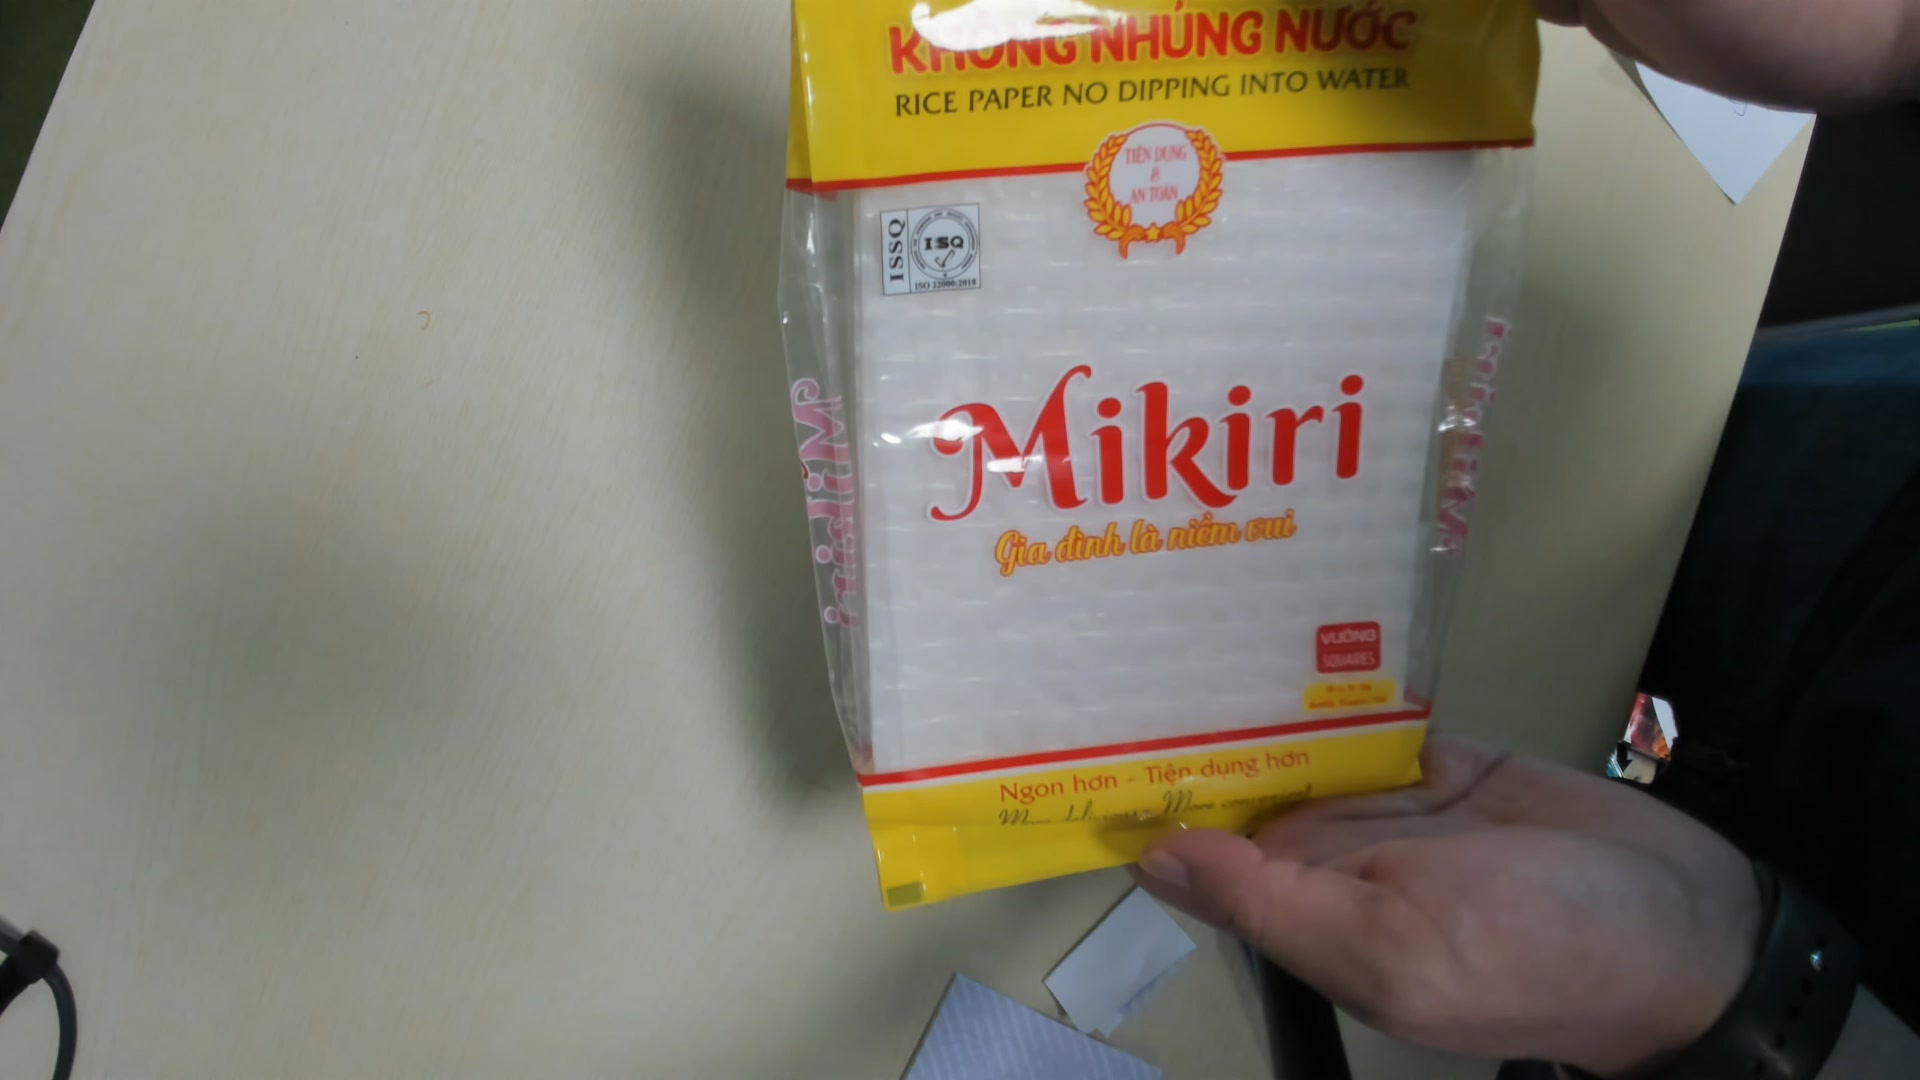InstantMeals_200_299g_NonHalal_NonHealthy: (775, 8, 1543, 913)
